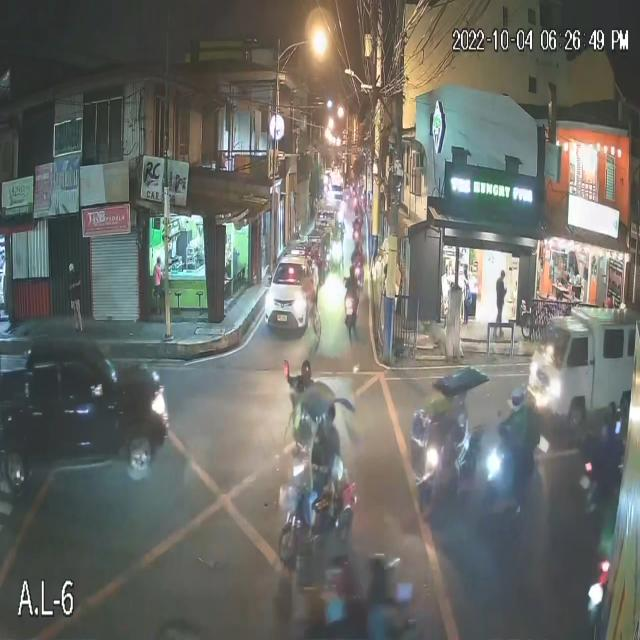Full-Faced: (506, 381, 525, 415), (298, 360, 316, 384), (348, 264, 356, 278)
